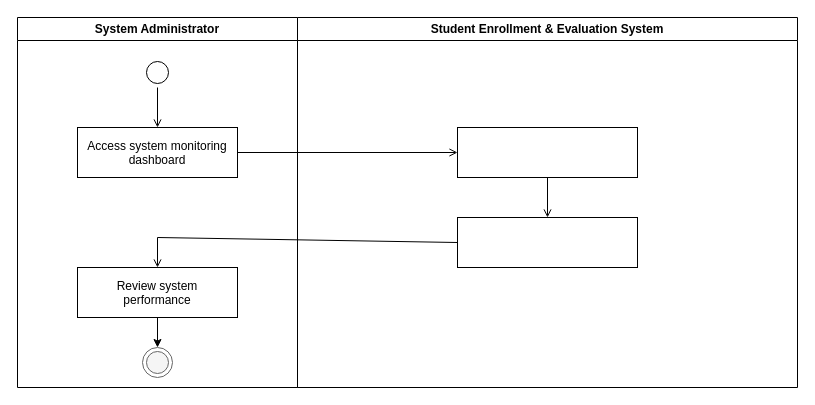
This 815x405 diagram has some shape labels left out. The shapes that lost their labels are listed below. From the top down, each one's centre as x and y in pixels, then its label:
(x=547, y=152): Calculate system metrics
(x=547, y=242): Display system metrics
